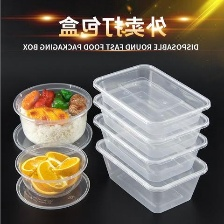plastic_box: (87, 59, 215, 218), (9, 77, 97, 158), (10, 138, 96, 213)
